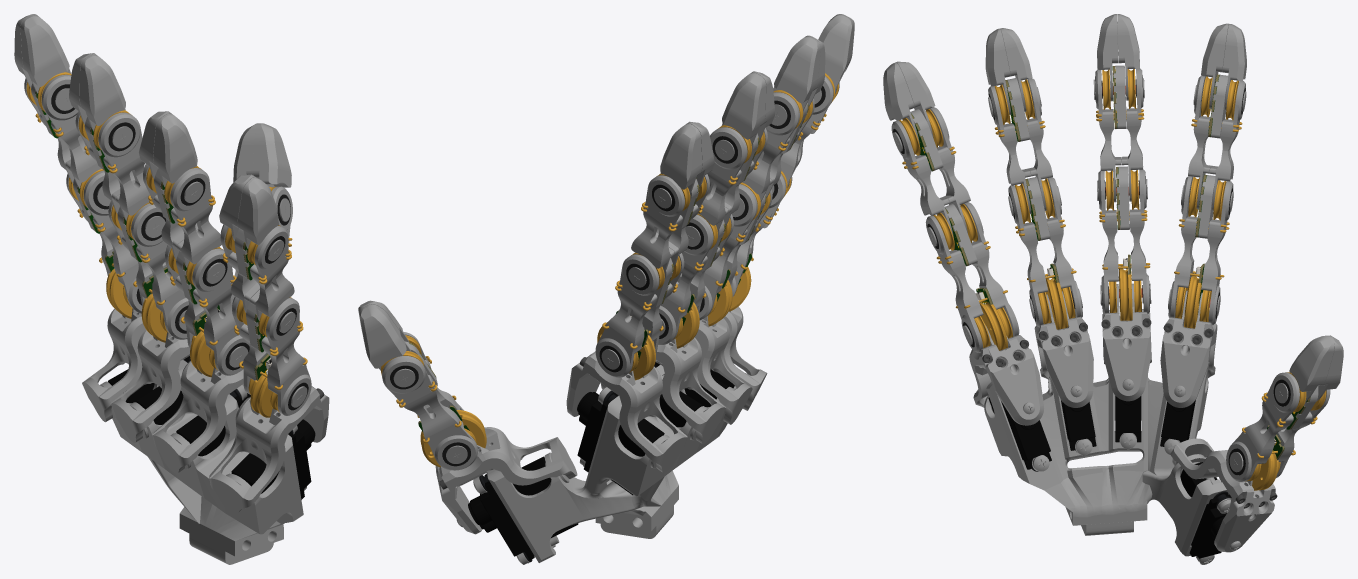
The model's file is AucklandVersion.glb.
The picture shows the model from 3 angles, left to right: view 1: azimuth 30°, elevation 25°; view 2: azimuth 150°, elevation 25°; view 3: azimuth 270°, elevation 25°; orthographic projection. The views are drawn at different scales.
Parts seen in each view (by area): view 1: Body1, Body1436, Body1826, Body1249, Body1639, Body1618, Body1228, Body1624, Body1047, Body1041, Body1319, Body1896 (+29 smaller); view 2: Body1, Body1639, Body1709, Body1917, Body1327, Body1249, Body1826, Body1028, Body1367, Body1026, Body1904, Body1652 (+18 smaller); view 3: Body1, Body1438, Body1641, Body1828, Body1251, Body1783, Body1919, Body1228, Body1917, Body1923, Body1234, Body1327 (+42 smaller).
Part boxes in pixels (<box>): Body1: <box>100,360,303,564</box>; Body1436: <box>209,392,316,513</box>; Body1826: <box>152,361,243,473</box>; Body1249: <box>110,330,190,442</box>; Body1639: <box>82,308,145,422</box>; Body1618: <box>192,248,249,375</box>; Body1228: <box>261,298,311,415</box>; Body1624: <box>170,168,221,267</box>; Body1047: <box>98,112,149,220</box>; Body1041: <box>131,203,188,339</box>; Body1319: <box>20,15,71,93</box>; Body1896: <box>79,54,125,131</box>; Body1: <box>487,365,750,562</box>; Body1639: <box>587,358,687,472</box>; Body1709: <box>382,356,477,470</box>; Body1917: <box>445,427,577,487</box>; Body1327: <box>595,254,659,377</box>; Body1249: <box>655,337,725,443</box>; Body1826: <box>694,316,752,424</box>; Body1028: <box>468,456,578,560</box>; Body1367: <box>631,175,684,272</box>; Body1026: <box>577,392,664,495</box>; Body1904: <box>658,214,713,344</box>; Body1652: <box>773,36,820,110</box>; Body1: <box>984,362,1229,556</box>; Body1438: <box>981,335,1043,425</box>; Body1641: <box>1160,317,1213,407</box>; Body1828: <box>1039,317,1093,407</box>; Body1251: <box>1102,312,1151,401</box>; Body1783: <box>1226,372,1299,481</box>; Body1919: <box>1214,484,1275,552</box>; Body1228: <box>925,215,983,352</box>; Body1917: <box>1170,438,1252,496</box>; Body1923: <box>1289,335,1334,401</box>; Body1234: <box>891,120,953,237</box>; Body1327: <box>1201,181,1233,325</box>.
Bounding box in the file's own units: 111 × 178 × 159.
